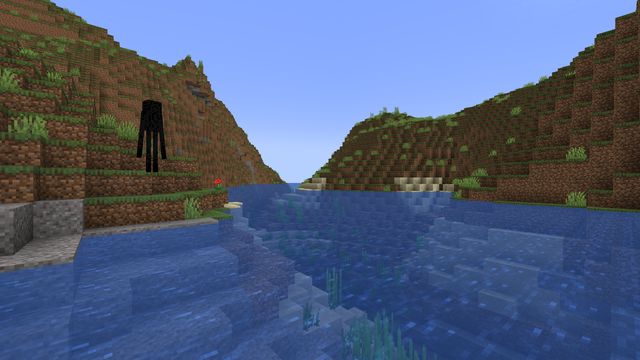endermens: (142, 96, 161, 170)
